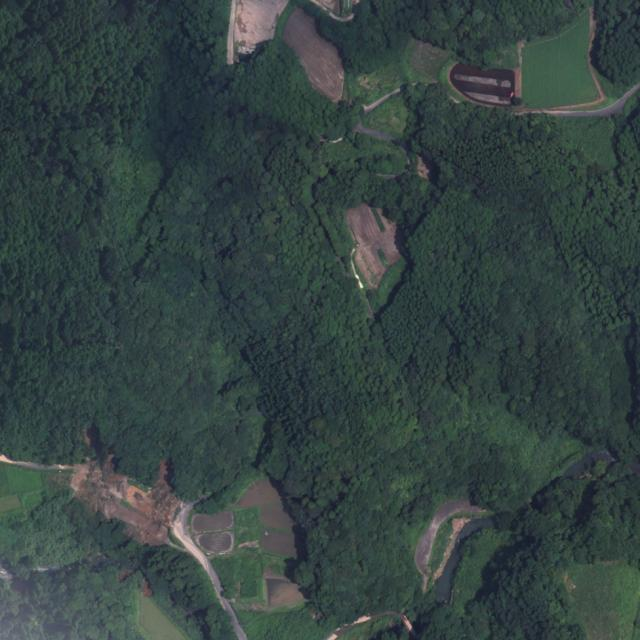landslide: (51, 455, 181, 546), (227, 0, 288, 63)
